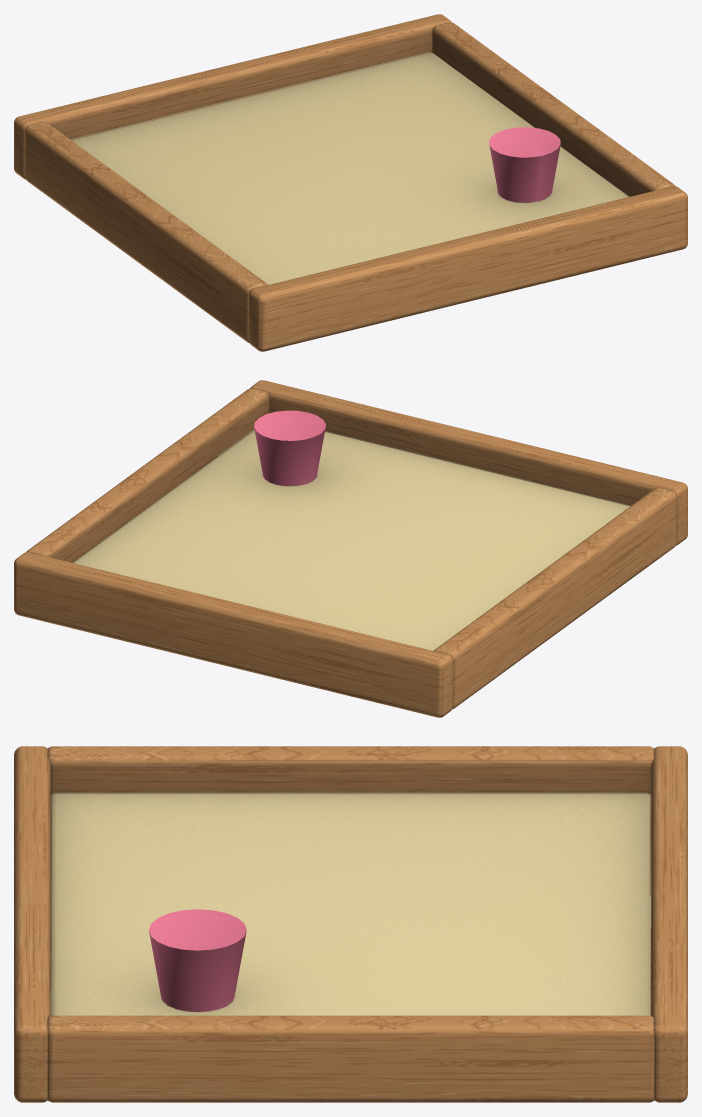
Rendered from sandbox.glb.
3 renders of one model, top to bottom at view 1: azimuth 30°, elevation 25°; view 2: azimuth 150°, elevation 25°; view 3: azimuth 270°, elevation 25°, orthographic. The views are drawn at different scales.
Visible parts, largest first — view 1: sandbox; view 2: sandbox; view 3: sandbox.
Boxes of the visible parts, box(x1,y1,x2,y2) form: sandbox: box(14, 14, 687, 351); sandbox: box(14, 380, 687, 717); sandbox: box(14, 746, 687, 1102).
Bounding box in the file's own units: 1.1 × 0.2 × 1.1.
Materials: 1 (1 with a texture image).
